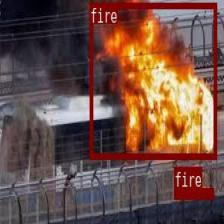fire: (89, 2, 216, 158), (173, 187, 213, 198)
